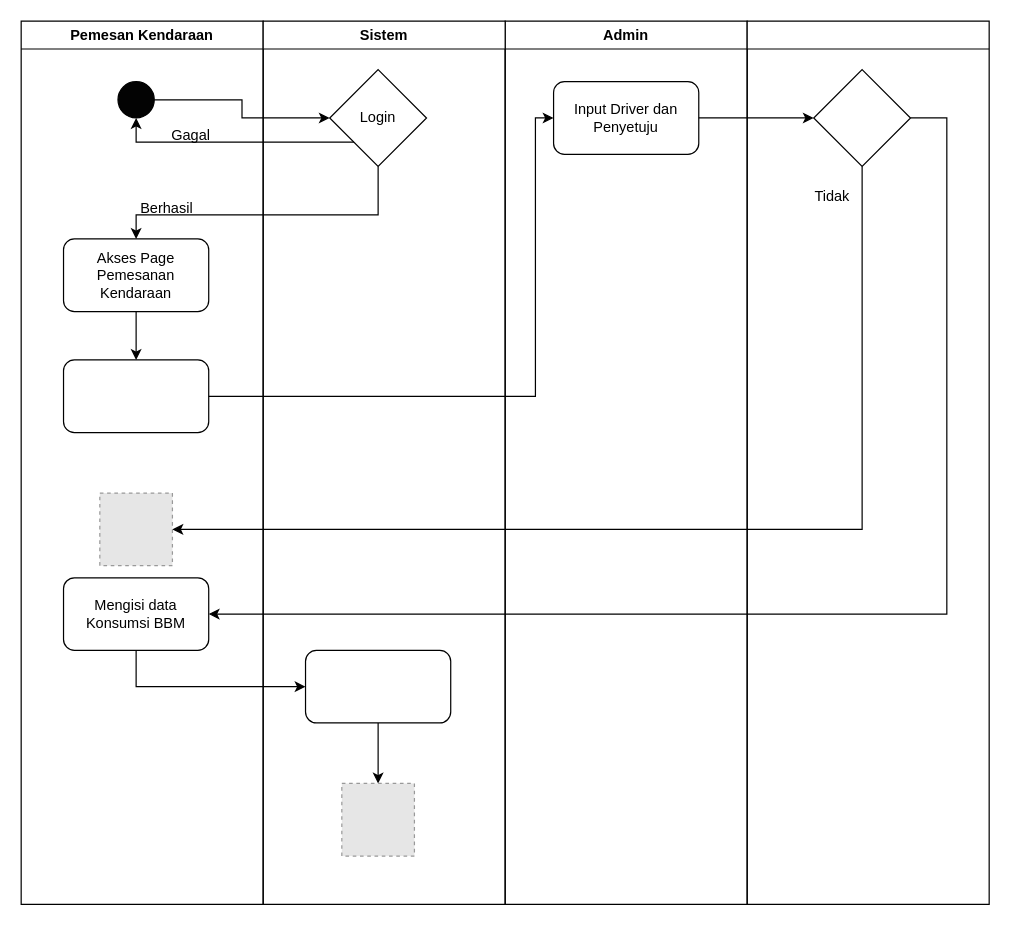
The diagram is 1010 pixels wide and 926 high, and some of its shapes have lost their labels. Grey dashed boxes stand in for pictures. Here are the shapes that lost their labels. From the top down, the box of each, then its label:
(813, 68, 911, 166): Setuju?
(62, 359, 209, 433): Mengisi data dan melakukan pemesanan
(746, 20, 989, 904): Pihak Penyetuju
(304, 649, 451, 723): Memproses Pemesanan Selesai
